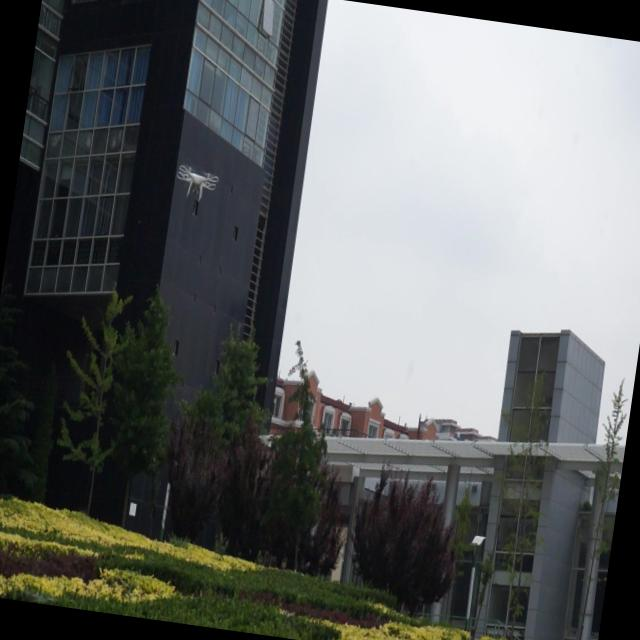drone: (172, 162, 222, 206)
